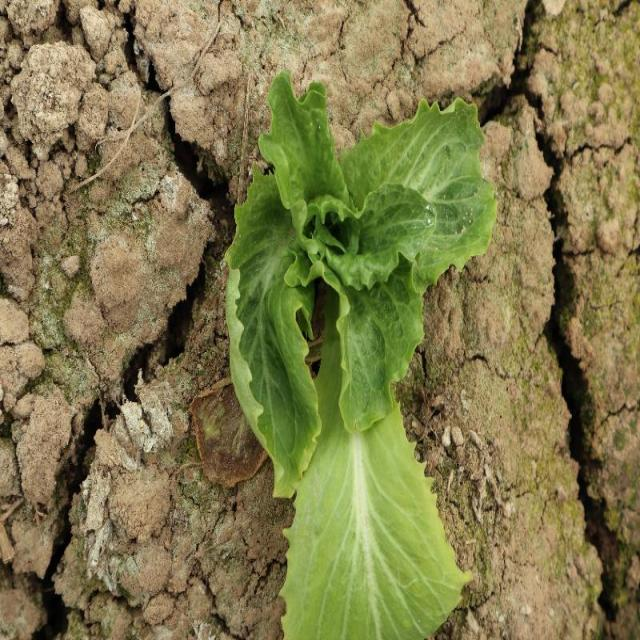crop: (224, 66, 498, 640)
